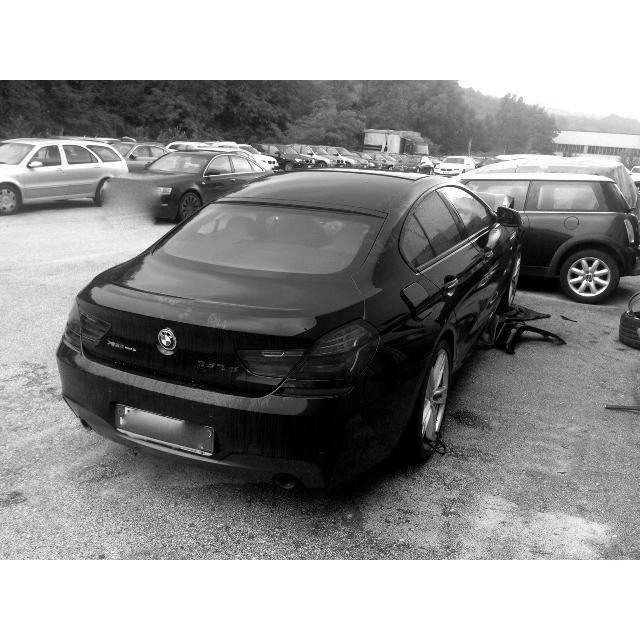boot-dent: (133, 302, 325, 403)
